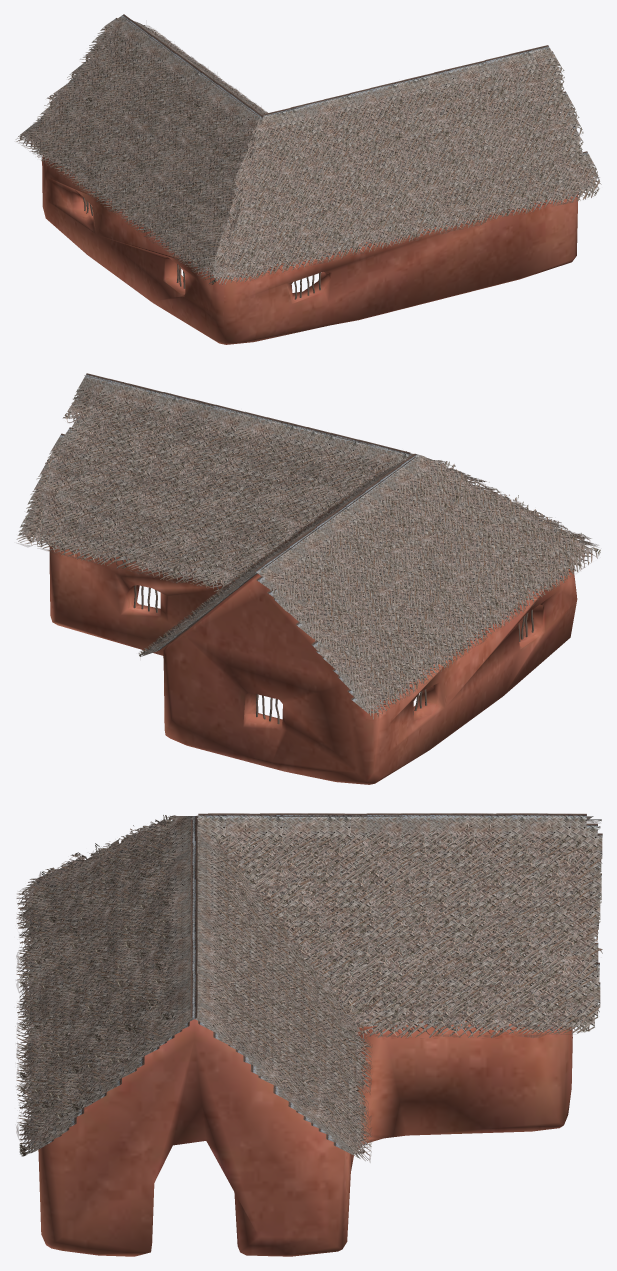
Rendered from thatched.glb.
3 renders of one model, top to bottom at view 1: azimuth 30°, elevation 25°; view 2: azimuth 150°, elevation 25°; view 3: azimuth 270°, elevation 25°, orthographic. The views are drawn at different scales.
Parts seen in each view (by area): view 1: bool.001, bool, bool.003, bool.002; view 2: bool, bool.004, bool.003, bool.002, bool.001; view 3: bool.002, bool, bool.001, bool.004.
Boxes of the visible parts, x1,y1,x2,y2 form: bool.001: (212,45,601,284); bool: (42,153,578,344); bool.003: (15,14,263,284); bool.002: (123,17,267,115); bool: (49,497,577,784); bool.004: (16,373,410,591); bool.003: (254,453,600,719); bool.002: (138,457,415,656); bool.001: (84,375,598,547); bool.002: (198,813,602,1037); bool: (38,936,572,1256); bool.001: (16,815,197,1156); bool.004: (190,819,372,1162).
Size of the model in its own units: 6.38 by 2.73 by 5.68.
Materials: 3 (2 with a texture image).
